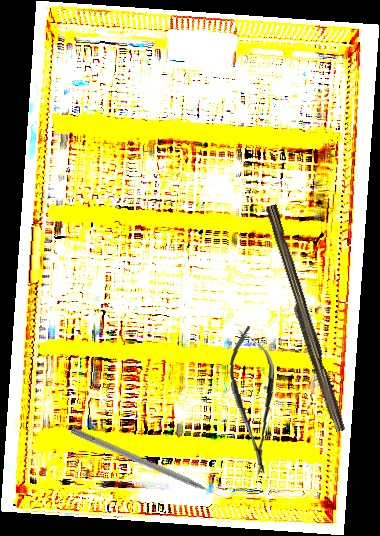Micro Scissor: (225, 324, 282, 477)
Pusher: (69, 426, 230, 505)
Scalpel Handle: (258, 203, 350, 435)
